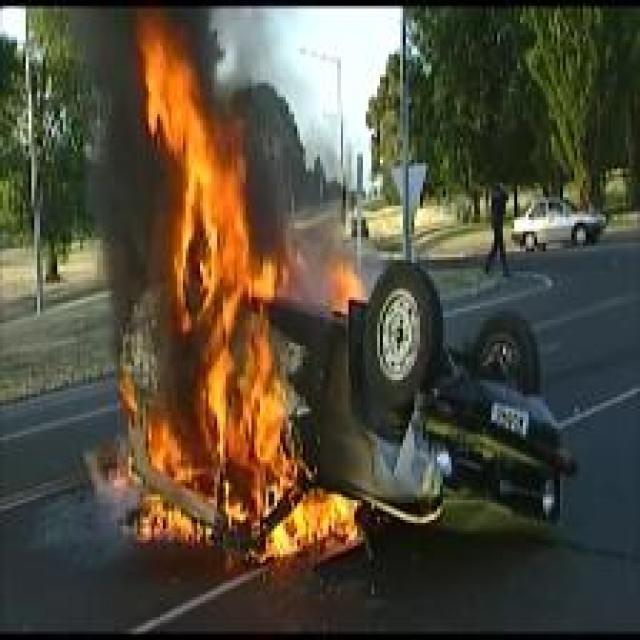Fire: (117, 11, 360, 563), (334, 257, 368, 320)
